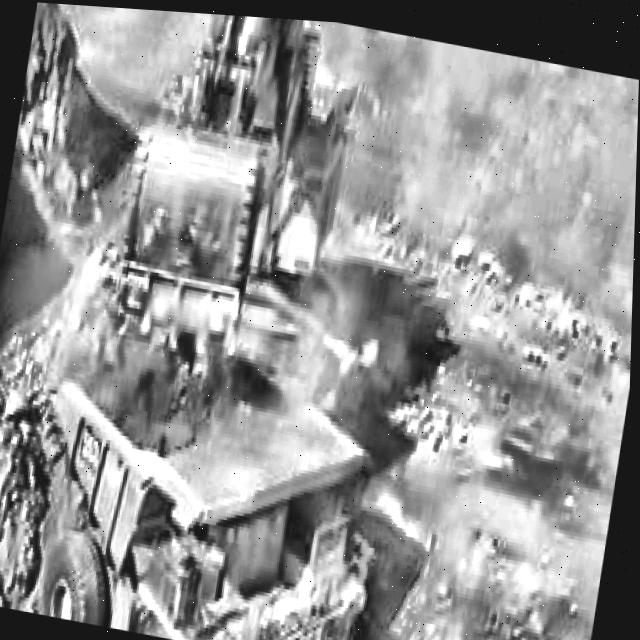dump_truck: (20, 333, 402, 640)
excavator: (120, 7, 357, 384)
